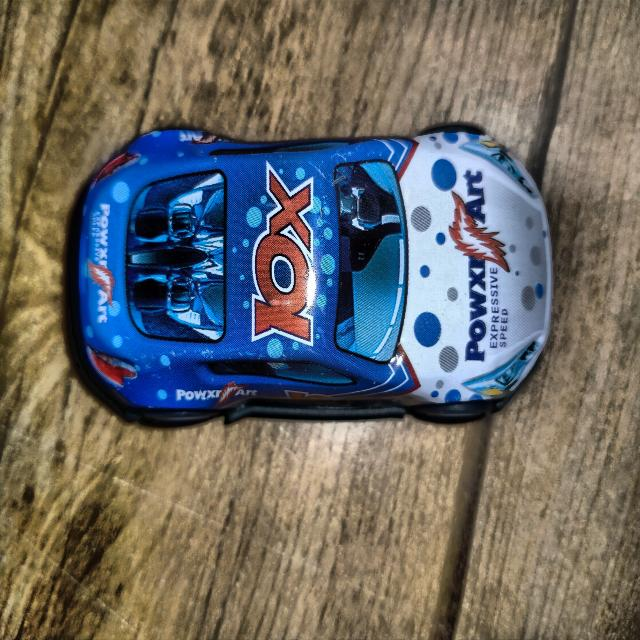Car: (76, 126, 550, 416)
